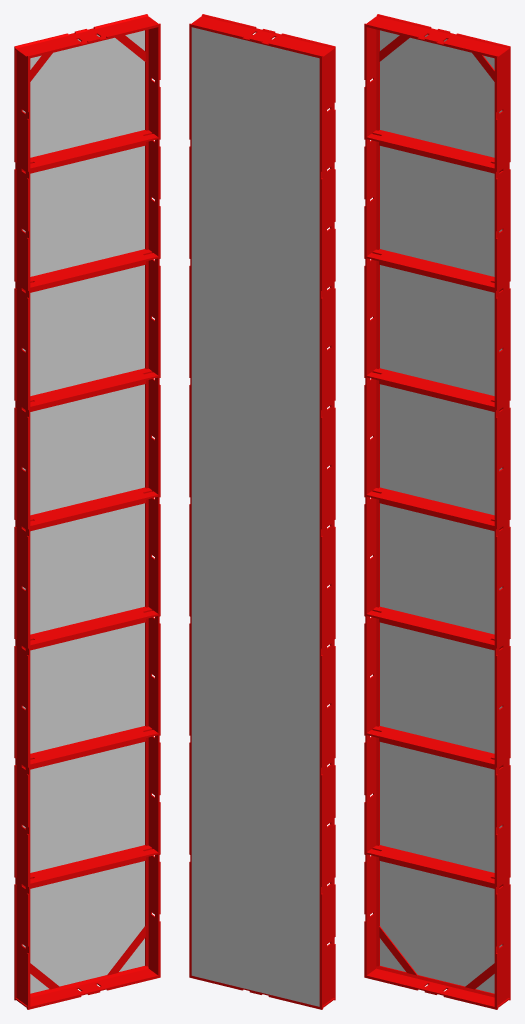
3 renders of one model, left to right at view 1: azimuth 30°, elevation 25°; view 2: azimuth 150°, elevation 25°; view 3: azimuth 330°, elevation 25°, orthographic.
Parts seen in each view (by area): view 1: Sp-14X8-P, Sp-14X8; view 2: Sp-14X8-P, Sp-14X8; view 3: Sp-14X8-P, Sp-14X8.
Part boxes in pixels (<box>): Sp-14X8-P: <box>22,30,144,993</box>; Sp-14X8: <box>14,14,160,1009</box>; Sp-14X8-P: <box>191,27,319,1006</box>; Sp-14X8: <box>189,14,335,1009</box>; Sp-14X8-P: <box>380,30,502,993</box>; Sp-14X8: <box>364,14,510,1009</box>.
Bounding box in the file's own units: 14 × 96 × 2.5.
